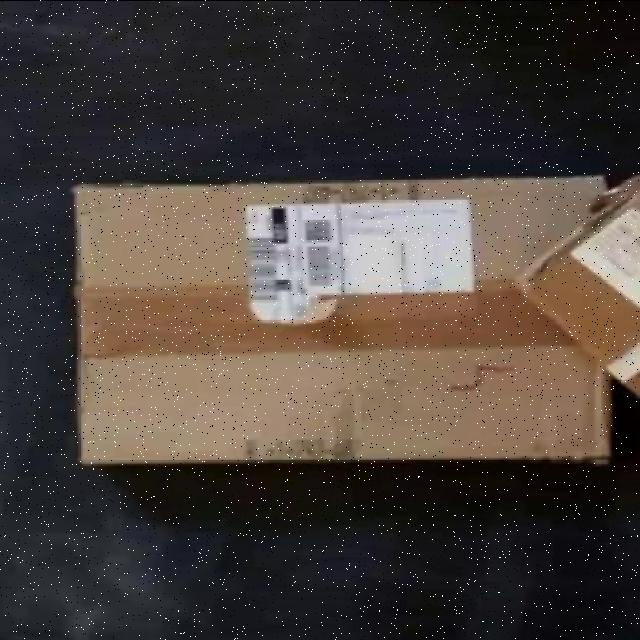normal: (67, 170, 618, 478)
